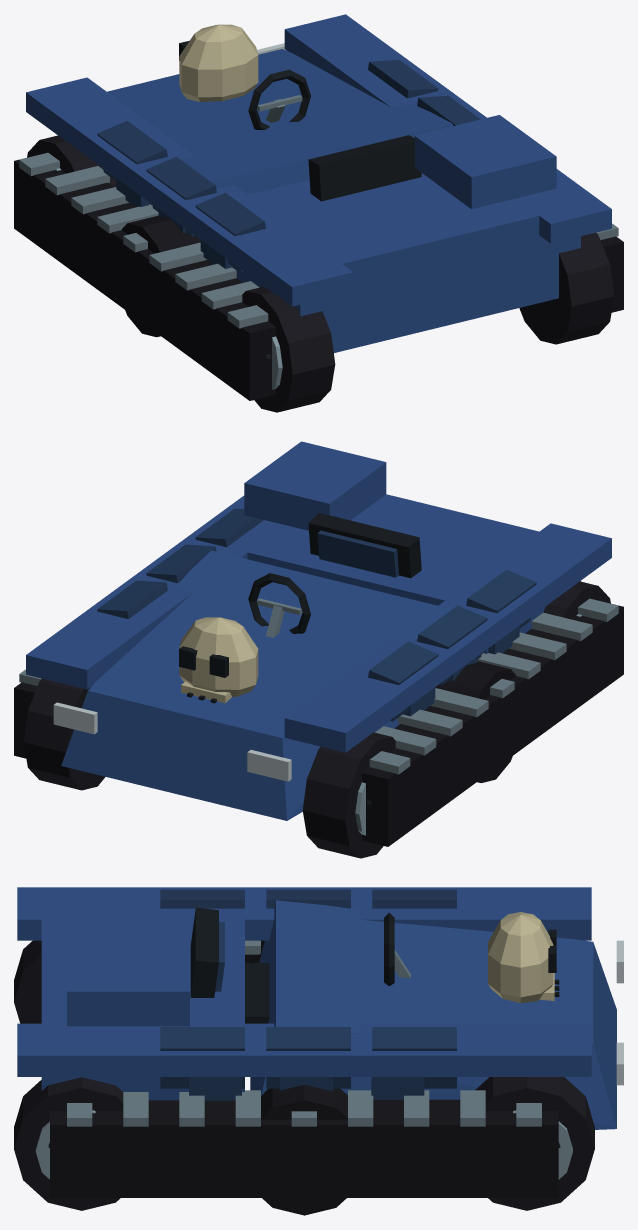
File: kart.glb
3 views of the same model, one above another, from view 1: azimuth 30°, elevation 25°; view 2: azimuth 150°, elevation 25°; view 3: azimuth 270°, elevation 25° (orthographic). The views are drawn at different scales.
Visible parts, largest first — view 1: identity-apc-apc-armored-hull, identity-apc-motif-tracks, identity-apc-motif-armor, wheel-rear-left, identity-apc-driver-cockpit, wheel-rear-right, identity-apc-motif-skull, wheel-front-left; view 2: identity-apc-apc-armored-hull, identity-apc-motif-tracks, identity-apc-motif-armor, identity-apc-driver-cockpit, wheel-front-left, identity-apc-motif-skull, wheel-front-right, wheel-rear-left; view 3: identity-apc-apc-armored-hull, identity-apc-motif-tracks, identity-apc-motif-armor, wheel-front-right, wheel-rear-right, identity-apc-motif-skull, identity-apc-driver-cockpit, wheel-rear-left.
Boxes of the visible parts, x1,y1,x2,y2 form: identity-apc-apc-armored-hull: (26, 14, 611, 352); identity-apc-motif-tracks: (14, 152, 623, 400); identity-apc-motif-armor: (97, 60, 480, 272); wheel-rear-left: (242, 286, 335, 412); identity-apc-driver-cockpit: (248, 69, 421, 201); wheel-rear-right: (519, 232, 614, 344); identity-apc-motif-skull: (179, 24, 258, 101); wheel-front-left: (27, 135, 116, 187); identity-apc-apc-armored-hull: (26, 441, 611, 820); identity-apc-motif-tracks: (14, 598, 623, 846); identity-apc-motif-armor: (97, 508, 536, 721); identity-apc-driver-cockpit: (248, 513, 421, 637); wheel-front-left: (302, 732, 395, 858); identity-apc-motif-skull: (179, 617, 258, 703); wheel-front-right: (23, 678, 105, 790); wheel-rear-left: (543, 581, 610, 619); identity-apc-apc-armored-hull: (17, 887, 623, 1215); identity-apc-motif-tracks: (50, 940, 558, 1197); identity-apc-motif-armor: (160, 889, 456, 1088); wheel-front-right: (475, 1077, 594, 1210); wheel-rear-right: (14, 1077, 123, 1210); identity-apc-motif-skull: (488, 912, 559, 1003); identity-apc-driver-cockpit: (190, 907, 410, 1023); wheel-rear-left: (14, 940, 41, 1023).
Size of the model in its own units: 2.23 by 1.1 by 2.88.
